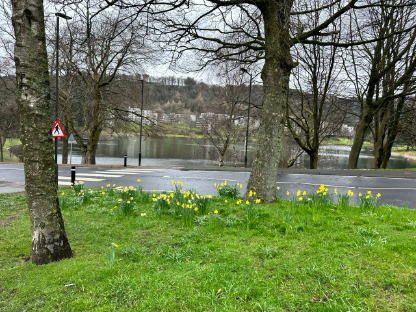tree: (141, 0, 344, 198), (0, 0, 99, 273), (59, 28, 148, 169), (340, 0, 391, 175), (295, 22, 342, 170)
